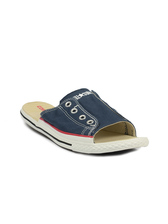shoes: (14, 89, 153, 158)
